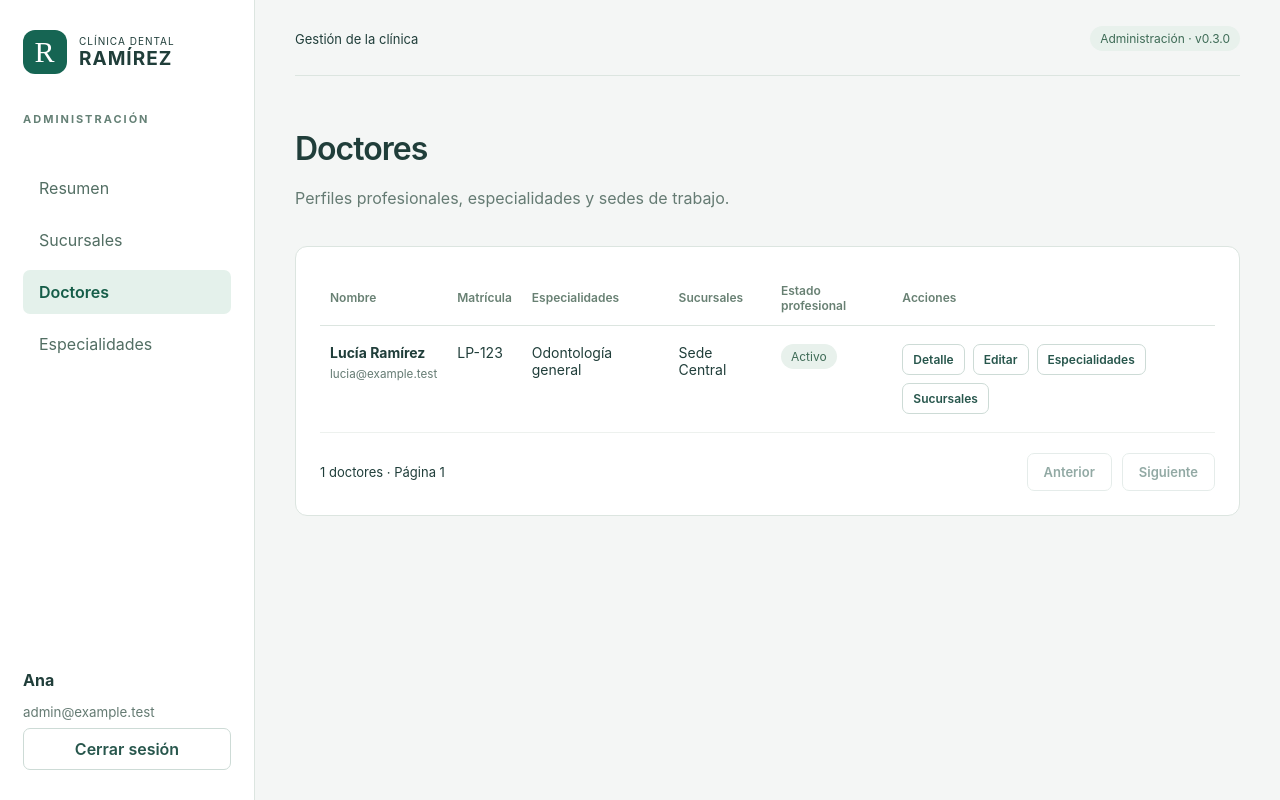
Test case: deshabilita el estado sin doctors.disable y preserva isActive=true al editar
The image size is (1280, 800).
Step 1. Click the button "Editar" → (1001, 360), box left=973, top=344, right=1028, bottom=375
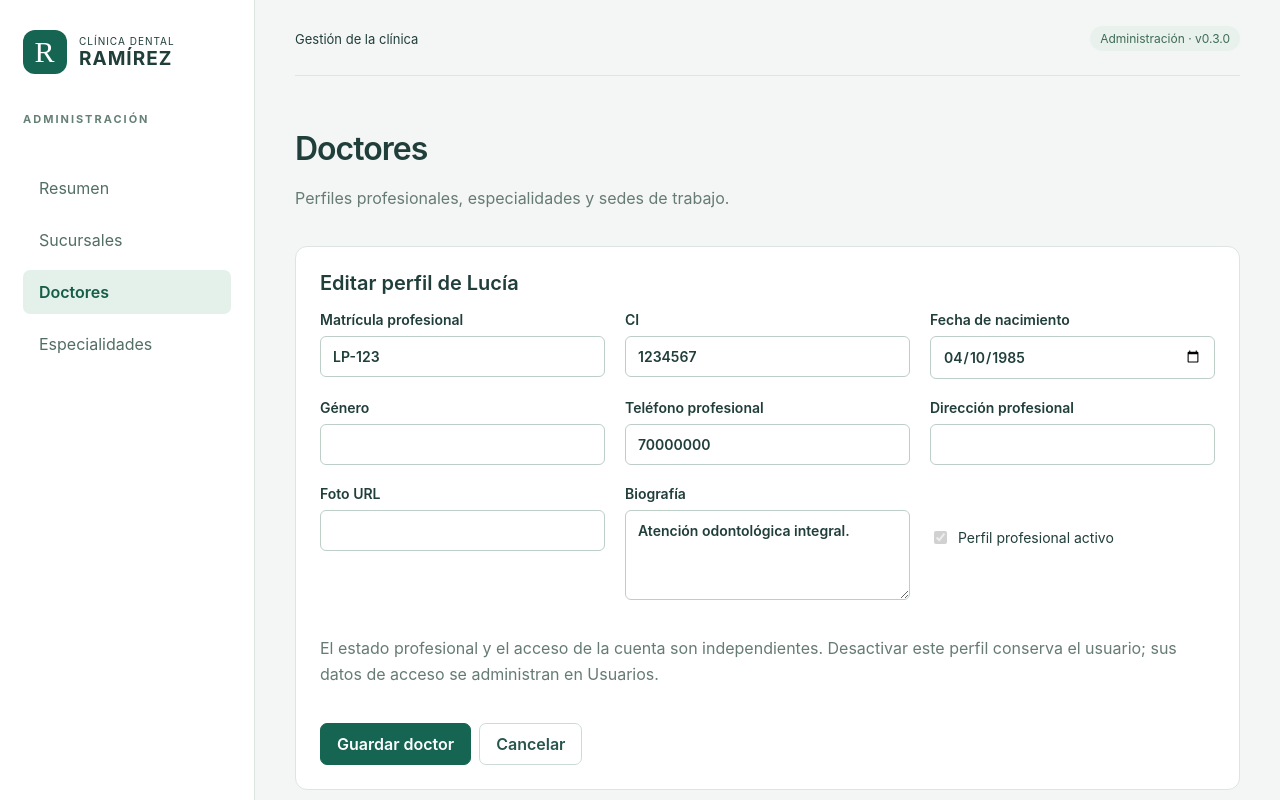
Result: the checkbox labelled "Perfil profesional activo" is disabled at left=934, top=531, right=947, bottom=544
Result: the checkbox labelled "Perfil profesional activo" is checked at left=934, top=531, right=947, bottom=544
Step 2. Replace the text in the field labelled "Teléfono profesional" with "71111111" → (768, 444), box left=625, top=424, right=910, bottom=465
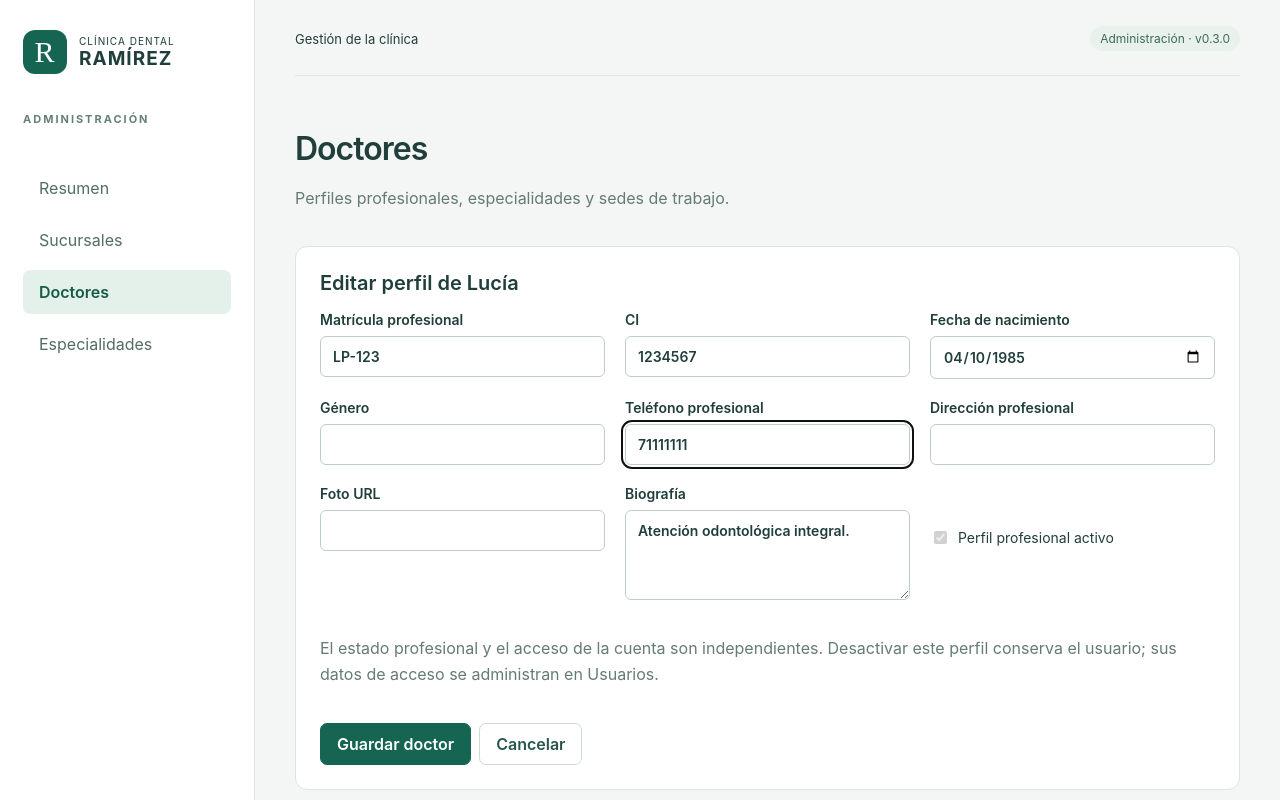
Step 3. Click the button "Guardar doctor" → (396, 744), box left=320, top=723, right=471, bottom=765
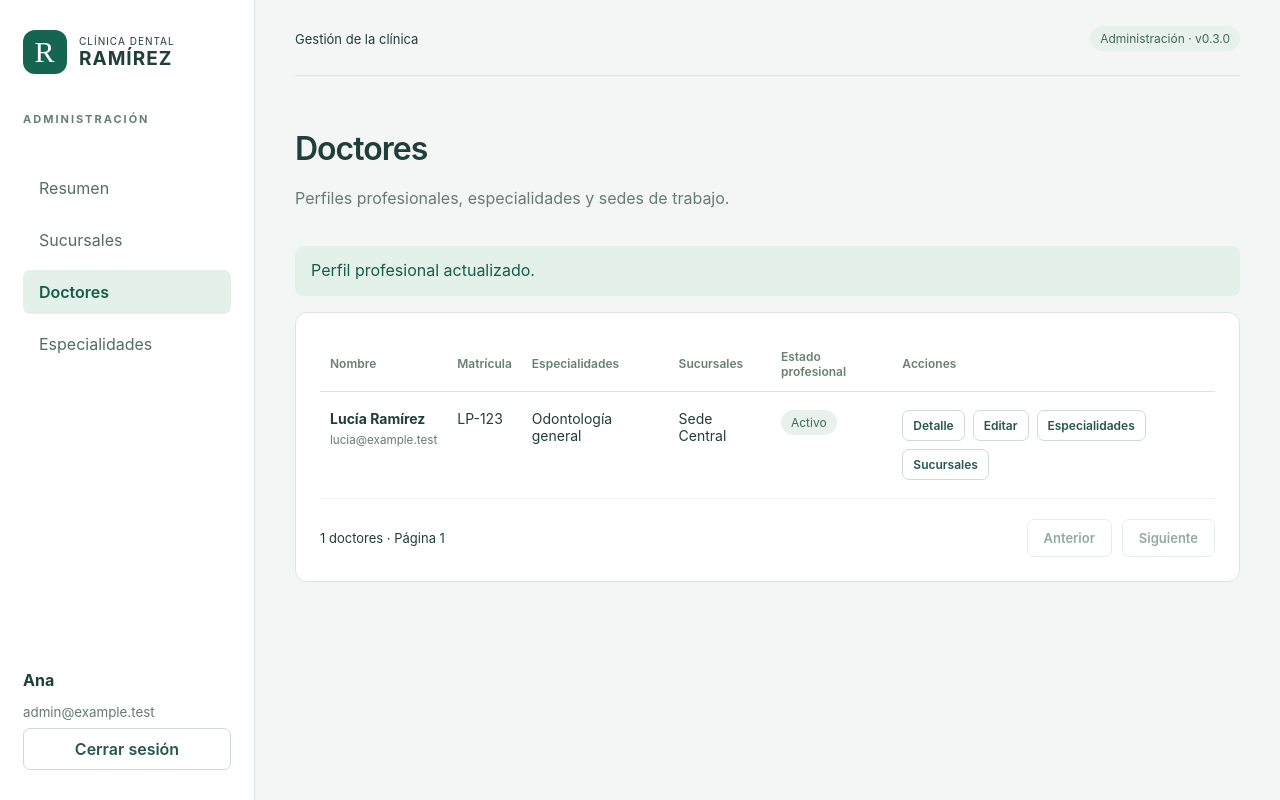
Result: the text "Perfil profesional actualizado." is shown at left=295, top=246, right=1240, bottom=296
